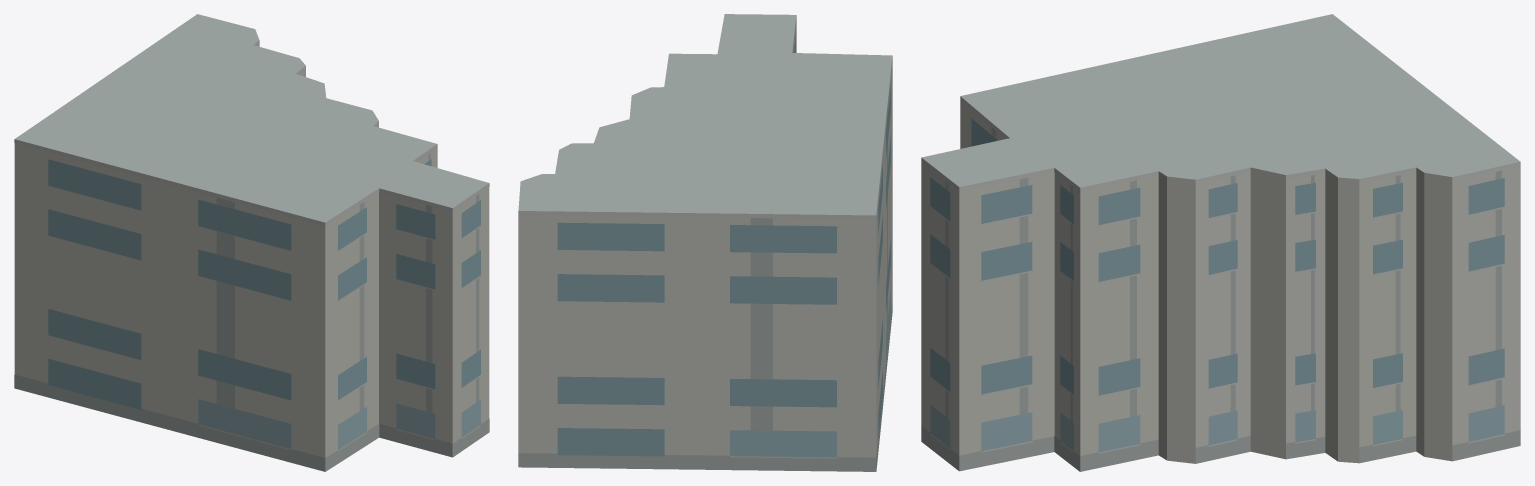
File: survey-upis-32907340.glb
The picture shows the model from 3 angles, left to right: view 1: azimuth 30°, elevation 25°; view 2: azimuth 150°, elevation 25°; view 3: azimuth 270°, elevation 25°; orthographic projection. The views are drawn at different scales.
Visible parts, largest first — view 1: survey-upis-32907340.tmp; view 2: survey-upis-32907340.tmp; view 3: survey-upis-32907340.tmp.
Part boxes in pixels (<box>): survey-upis-32907340.tmp: <box>14,14,489,471</box>; survey-upis-32907340.tmp: <box>518,14,892,471</box>; survey-upis-32907340.tmp: <box>921,14,1520,471</box>.
Size of the model in its own units: 20 by 15.25 by 29.15.
